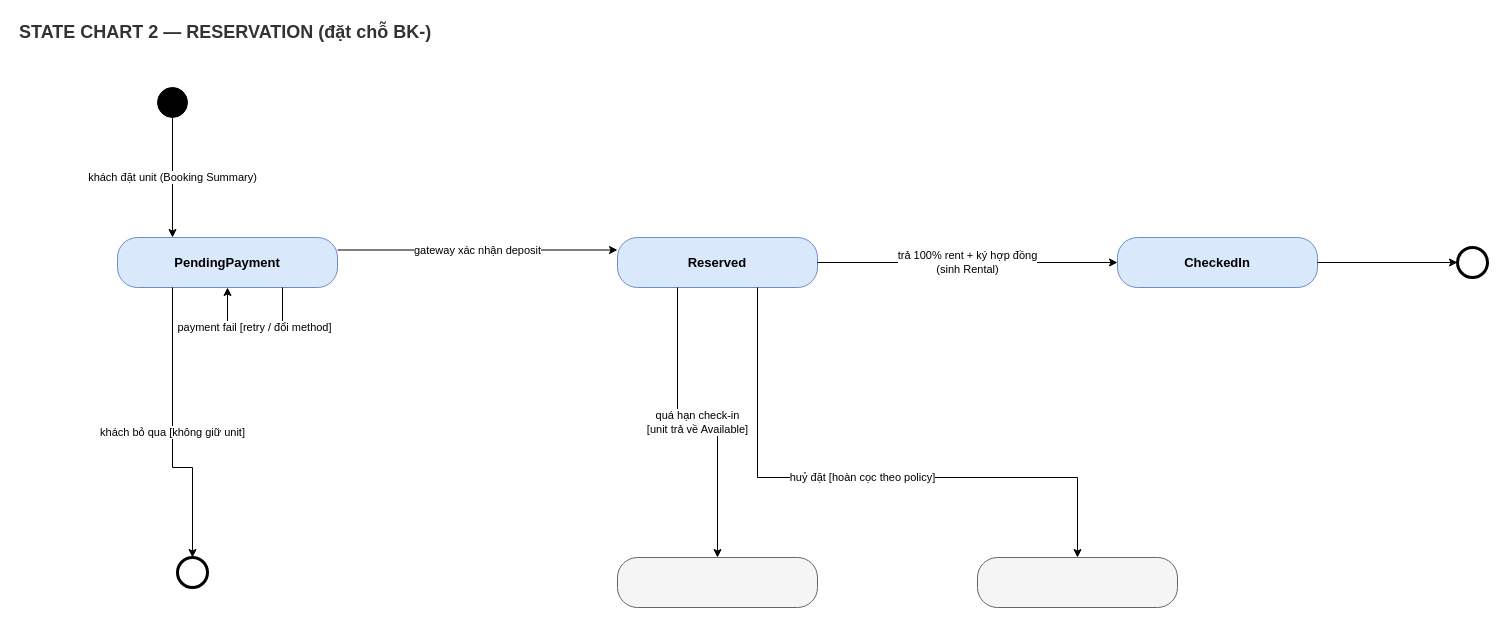
The diagram is 1506 pixels wide and 625 high, and some of its shapes have lost their labels. Each missing label, with the box of its shape:
Cancelled: (976, 556, 1178, 608)
Expired: (616, 556, 818, 608)
